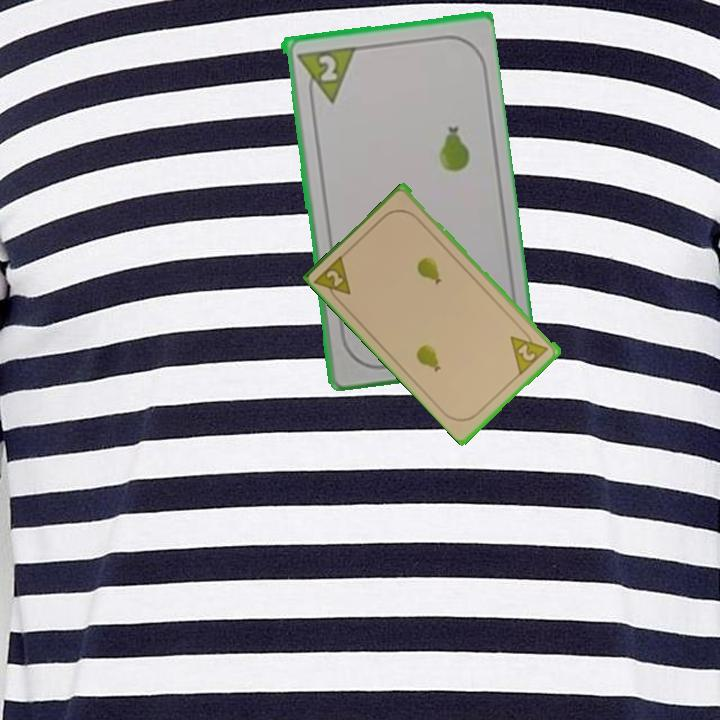2p: (292, 42, 356, 107), (312, 250, 355, 307), (507, 325, 551, 377)
